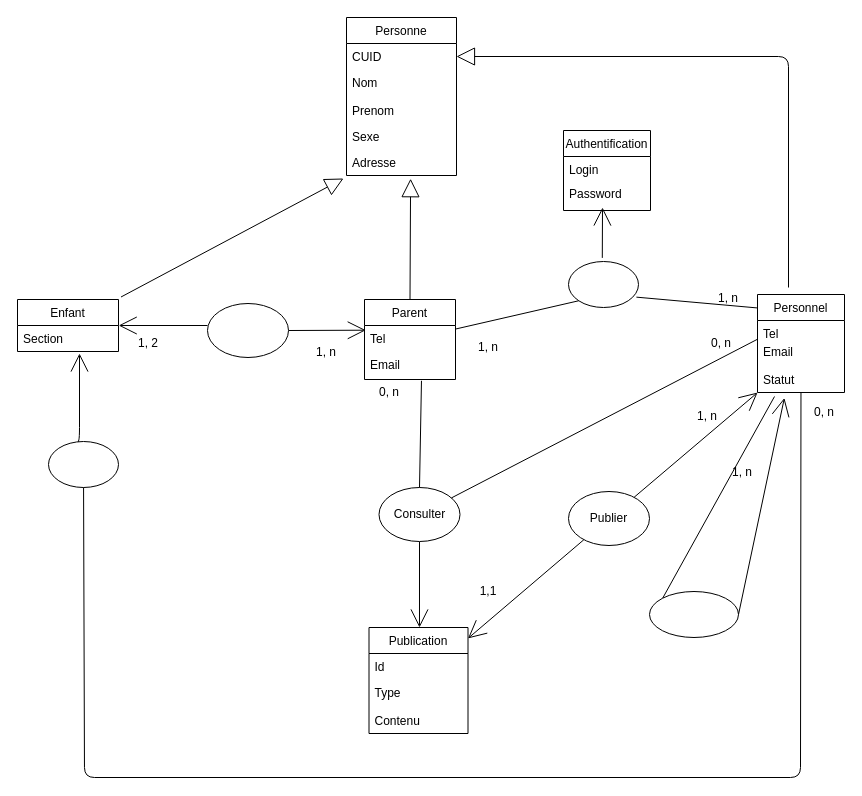
Image size: 862x796. Some labels were removed from this diagram. The centre of each missing label's shape, as x and y in pixels:
"Authentifier" goes at pixel 603 284.
"Avoir" goes at pixel 247 330.
"Gérer" goes at pixel 693 614.
"s'occuper" goes at pixel 83 464.
